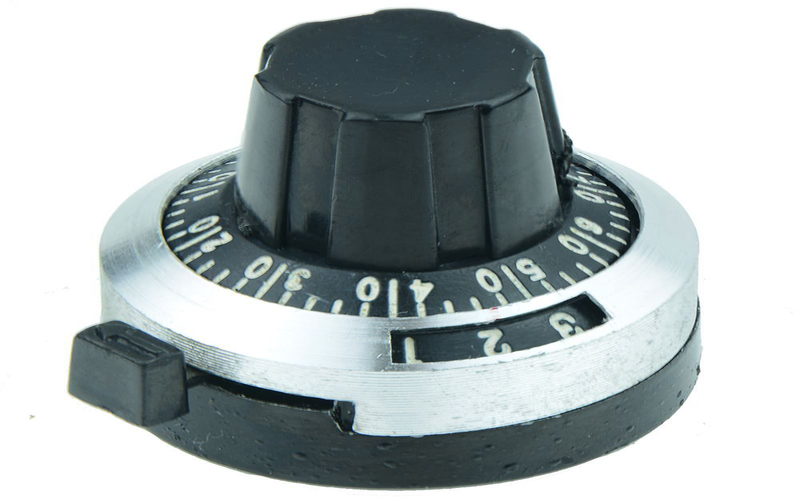Switches: (201, 3, 642, 305)
